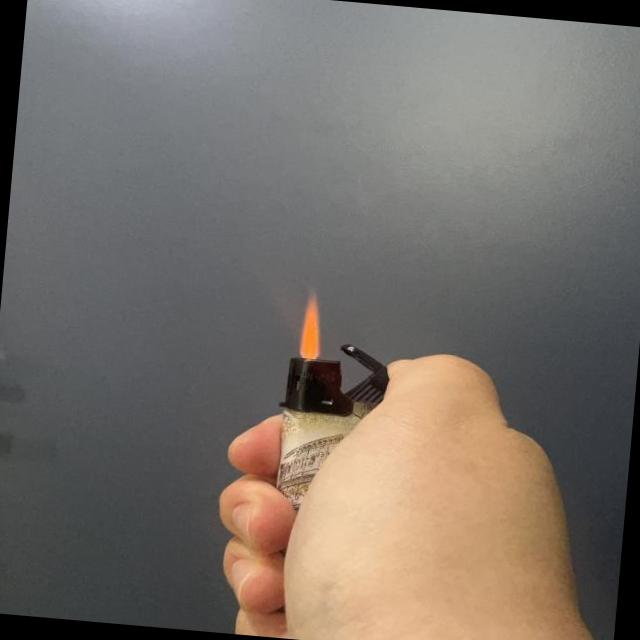Fire: (291, 284, 328, 362)
